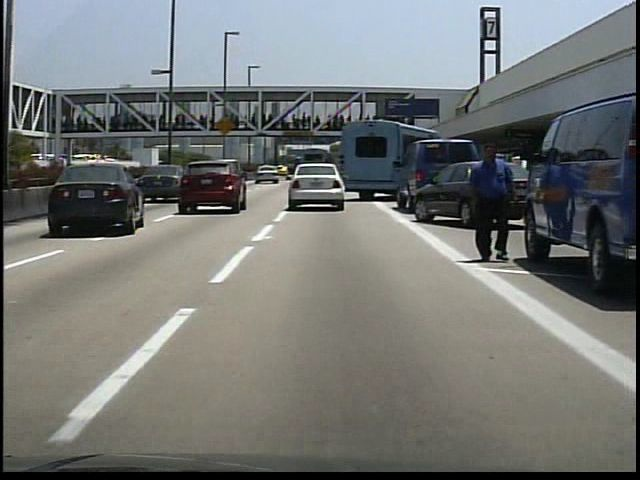person: (462, 144, 520, 266)
